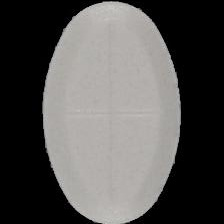43063-455: (0, 0, 224, 224)
